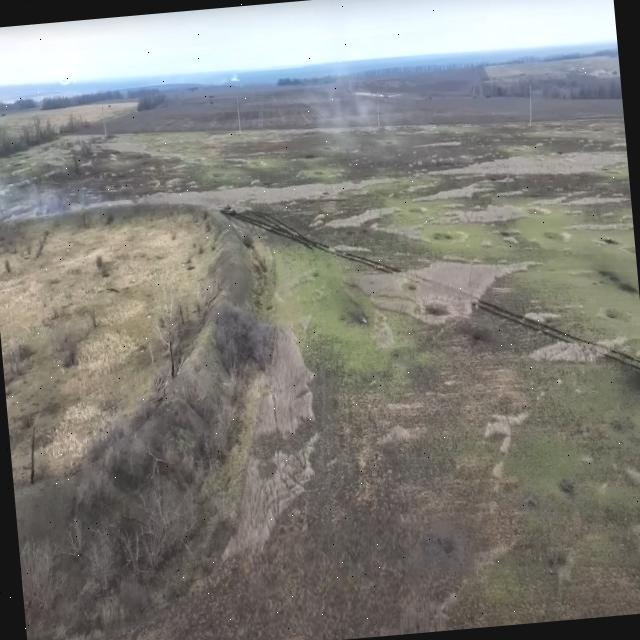MBT: (218, 203, 239, 219)
